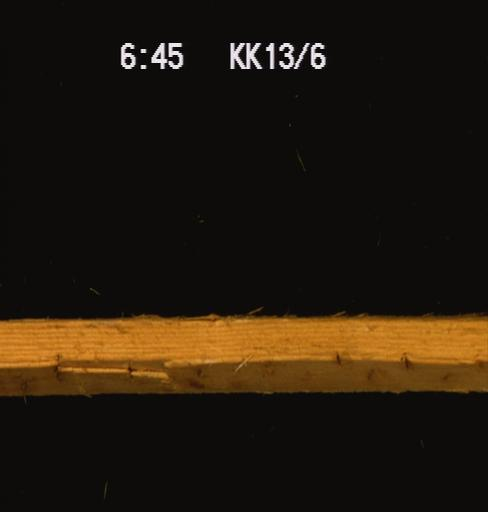wave: (0, 312, 485, 387)
